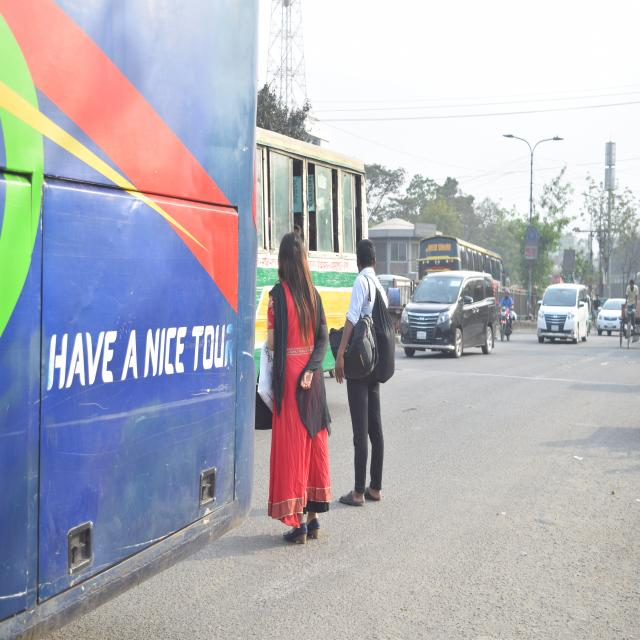bus: (0, 0, 261, 596), (257, 122, 371, 403), (416, 232, 505, 280)
car: (596, 289, 626, 336)
microbus: (402, 268, 496, 358), (529, 282, 592, 346)
motorbike: (498, 298, 514, 346)
